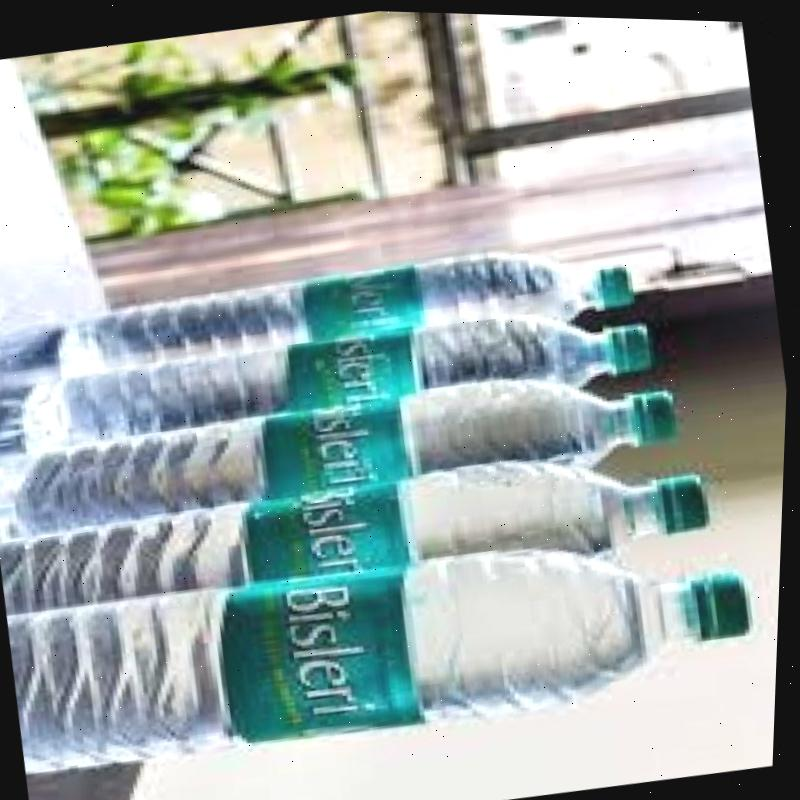botella: (6, 496, 770, 796), (0, 413, 721, 659), (0, 335, 686, 562), (12, 280, 656, 477), (45, 217, 641, 403)
